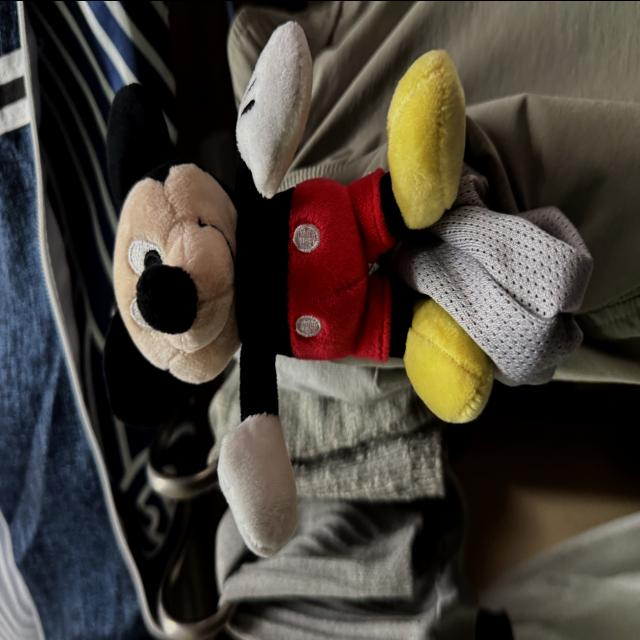mickey: (104, 21, 492, 554)
